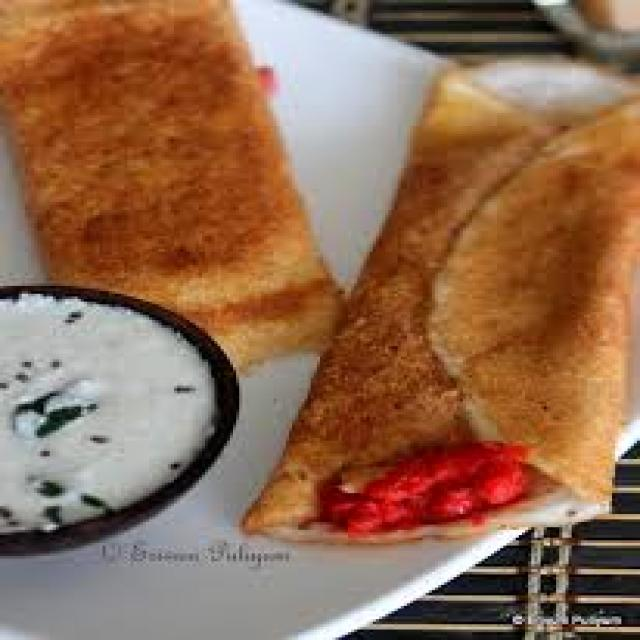DOSA: (245, 60, 637, 532)
